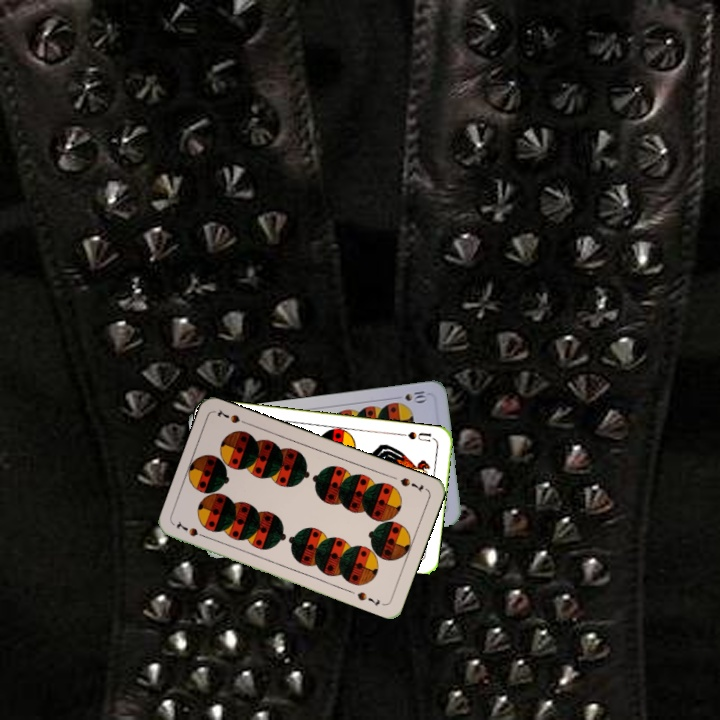S10: (390, 385, 429, 405)
S7: (172, 517, 211, 541), (396, 473, 426, 494)
SU: (396, 427, 437, 444)
